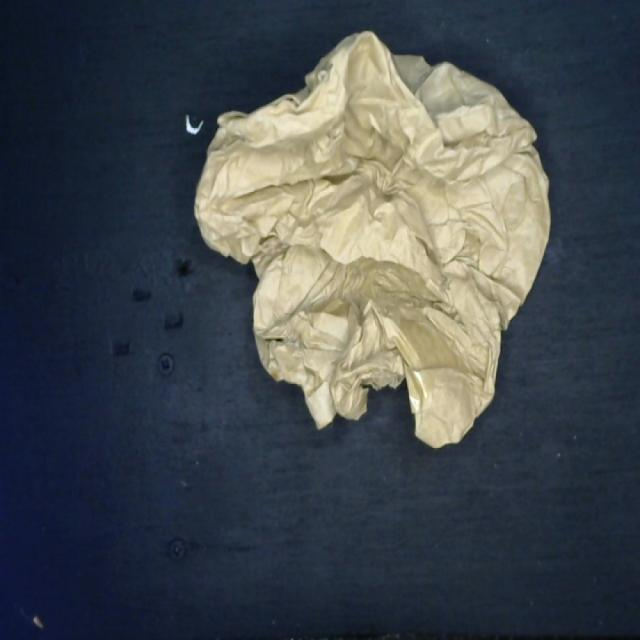biodegradable: (190, 26, 556, 463)
